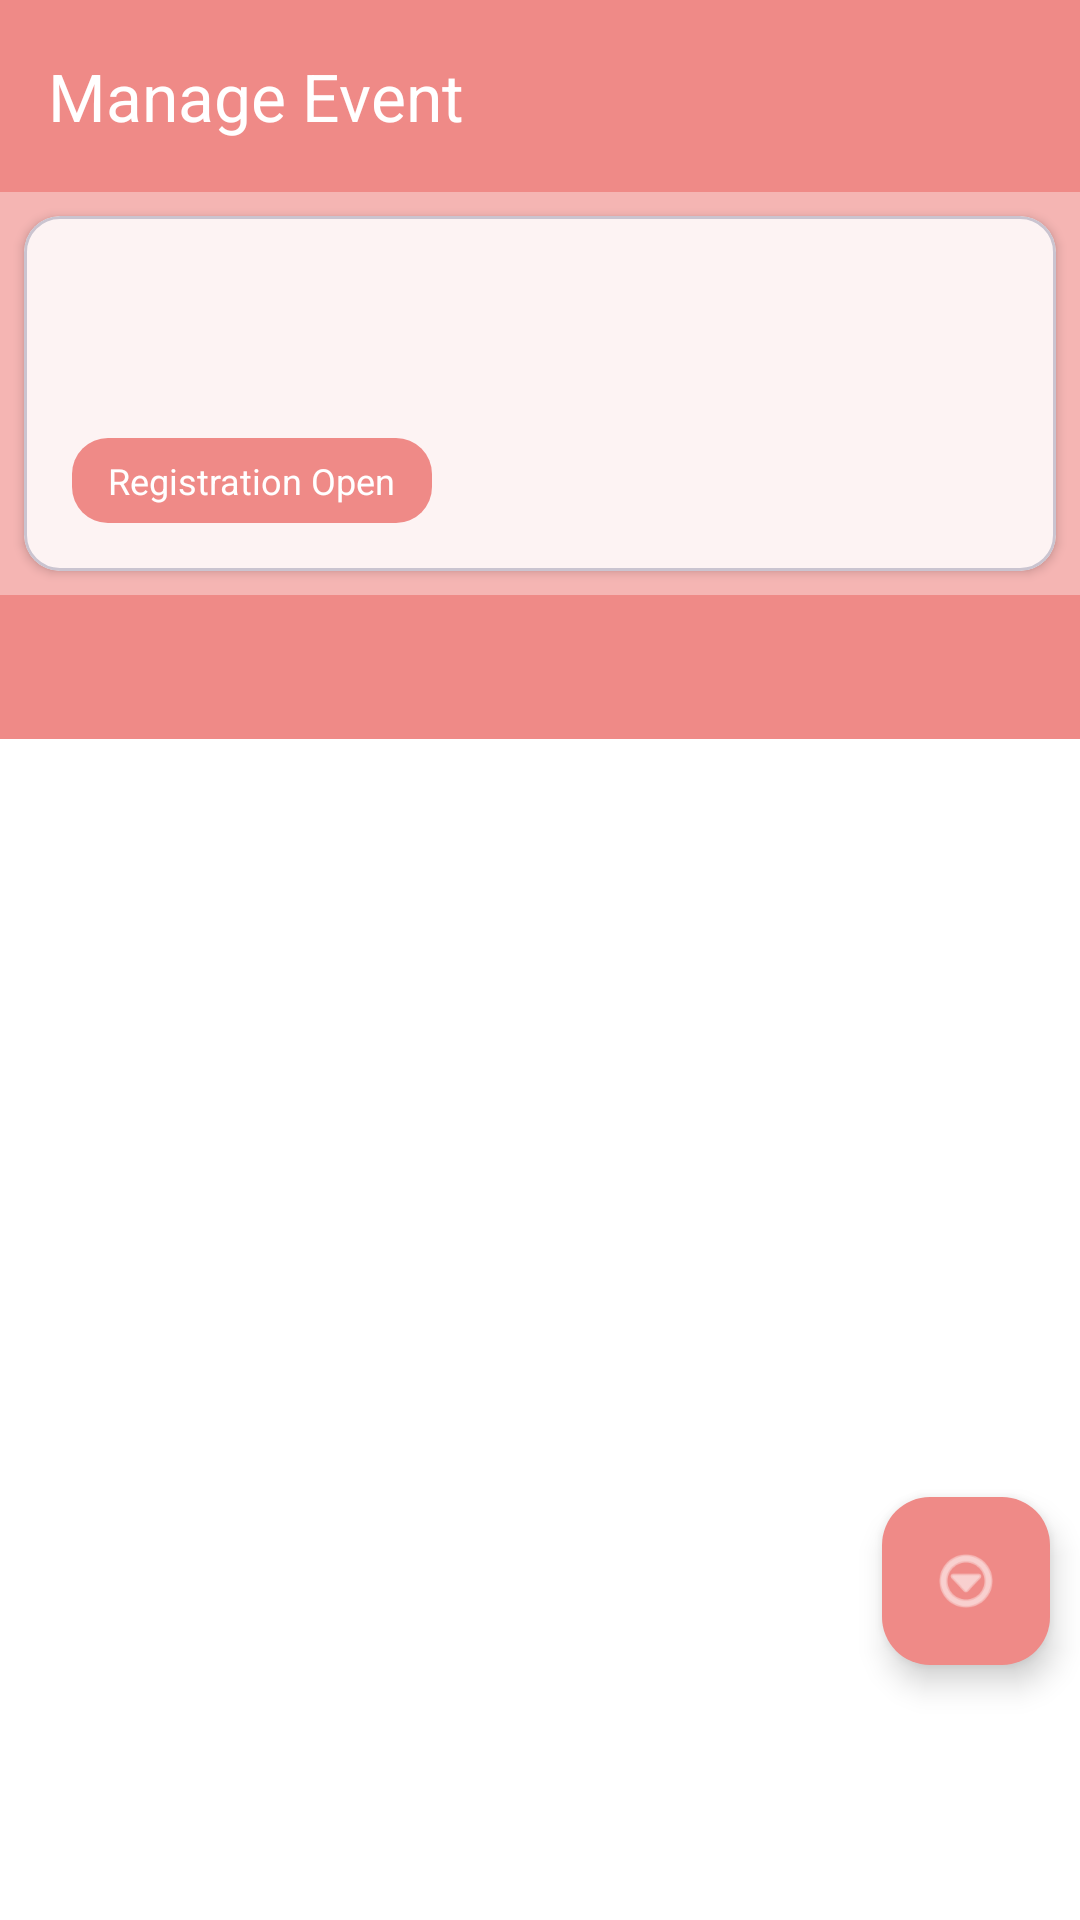

Screen size 1080*1920. Icon name, then its box in pixels as box=[x1, y1, x2, y2]:
Manage Actions: box=[882, 1497, 1050, 1665]
